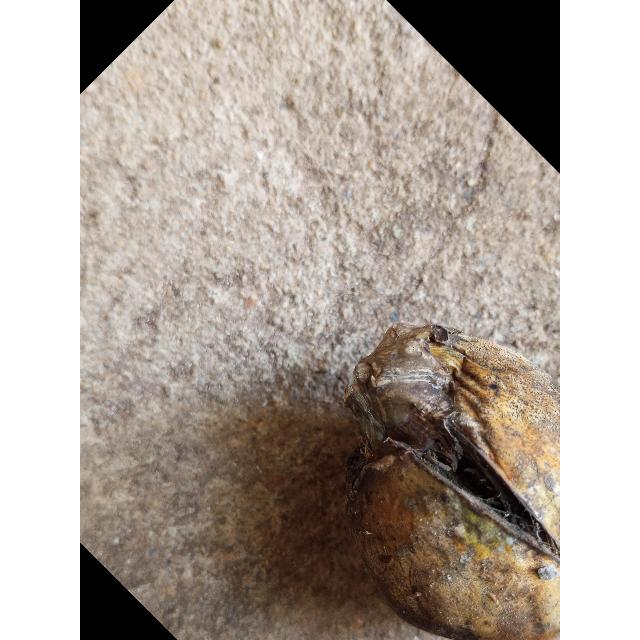damaged: (344, 322, 560, 640)
